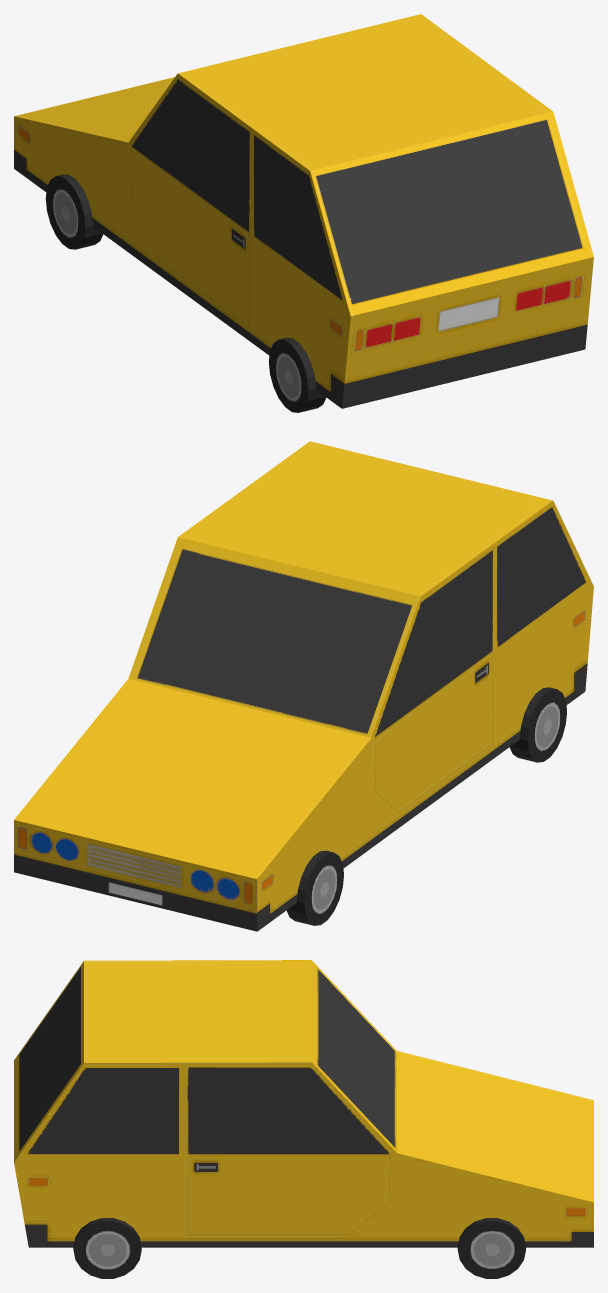
File: car1yellow.glb
3 views of the same model, one above another, from view 1: azimuth 30°, elevation 25°; view 2: azimuth 150°, elevation 25°; view 3: azimuth 270°, elevation 25° (orthographic). The views are drawn at different scales.
Parts seen in each view (by area): view 1: CAR_01; view 2: CAR_01; view 3: CAR_01.
Boxes of the visible parts, left/top/right/bottom form: CAR_01: left=14, top=14, right=593, bottom=412; CAR_01: left=14, top=441, right=593, bottom=931; CAR_01: left=14, top=960, right=593, bottom=1278.
Size of the model in its own units: 1.78 by 1.63 by 4.01.
1 material, 1 textured.
